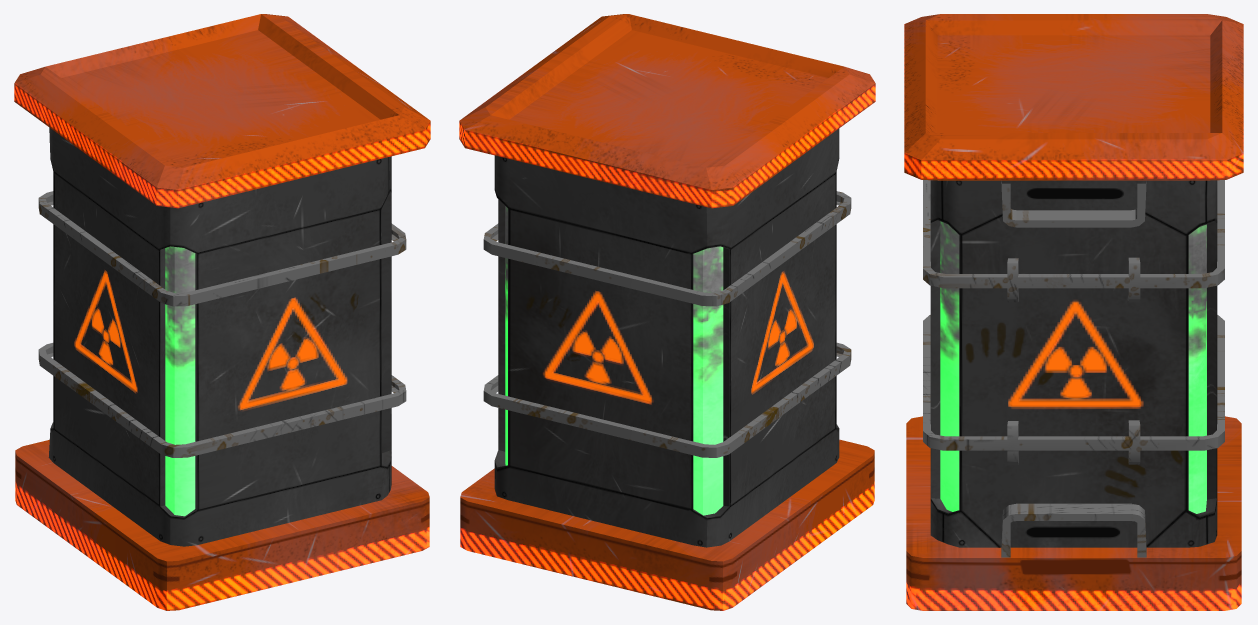
File: Cubo_b_arreglado_.fbx
The picture shows the model from 3 angles, left to right: view 1: azimuth 30°, elevation 25°; view 2: azimuth 150°, elevation 25°; view 3: azimuth 270°, elevation 25°; orthographic projection. The views are drawn at different scales.
Visible parts, largest first — view 1: group1 cuerpo cuerpo, group1 tapa cuerpo, group1 cuerpo base, barras deco group1; view 2: group1 cuerpo cuerpo, group1 tapa cuerpo, group1 cuerpo base, barras deco group1; view 3: group1 cuerpo cuerpo, group1 tapa cuerpo, group1 cuerpo base, barras deco group1, deco group1 deco.
Part boxes in pixels (x1=…): group1 cuerpo cuerpo: x1=48, y1=127, x2=391, y2=546; group1 tapa cuerpo: x1=14, y1=14, x2=430, y2=208; group1 cuerpo base: x1=15, y1=440, x2=429, y2=610; barras deco group1: x1=38, y1=191, x2=406, y2=457; group1 cuerpo cuerpo: x1=494, y1=128, x2=839, y2=547; group1 tapa cuerpo: x1=459, y1=14, x2=875, y2=208; group1 cuerpo base: x1=460, y1=439, x2=874, y2=610; barras deco group1: x1=483, y1=191, x2=851, y2=457; group1 cuerpo cuerpo: x1=930, y1=180, x2=1217, y2=547; group1 tapa cuerpo: x1=904, y1=14, x2=1243, y2=180; group1 cuerpo base: x1=906, y1=416, x2=1241, y2=610; barras deco group1: x1=923, y1=180, x2=1224, y2=464; deco group1 deco: x1=1001, y1=180, x2=1146, y2=557.
Bounding box in the file's own units: 0.5308 × 0.8004 × 0.5308.
Materials: 2 (2 with a texture image).
